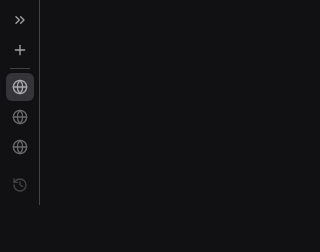
starts as the icon strip, persists showing and hiding titles, and falls back when a favicon fails
Check: the 3rd icon is shown, box [12,79,28,95]
Click the button named "Show tab titles" at [20, 20], box [6,6,34,34]
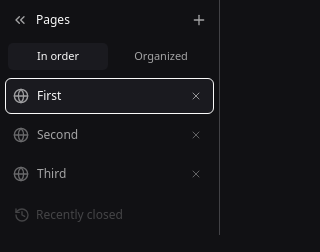
Check: the element showing "Pages In order Organized First Second Third Recently closed" does not have attribute data-collapsed
Check: the number of buttons with class "rb-tab-close" is 3, box [186,86,206,106]; [186,124,206,144]; [186,164,206,184]
Click the button named "Show tab titles" at [20, 20], box [6,6,34,34]
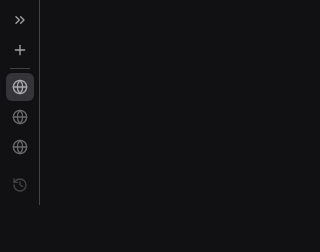
Check: the element named "Browser tabs" has attribute data-collapsed, box [0,0,40,205]
